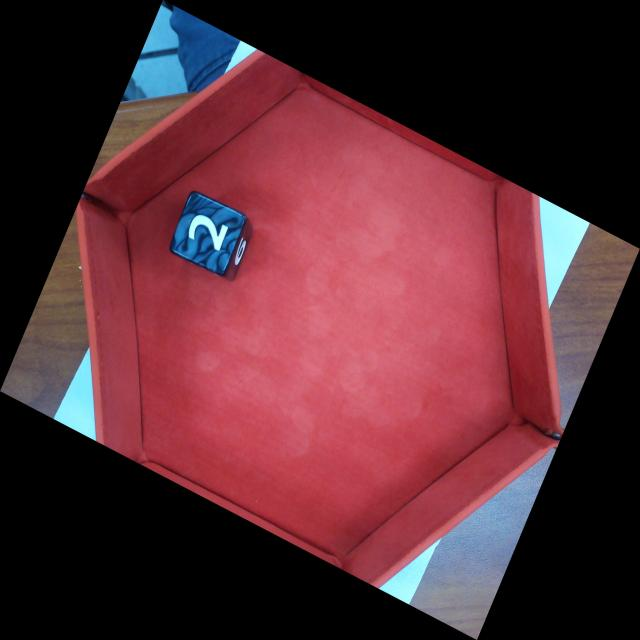dice: (165, 187, 250, 279)
